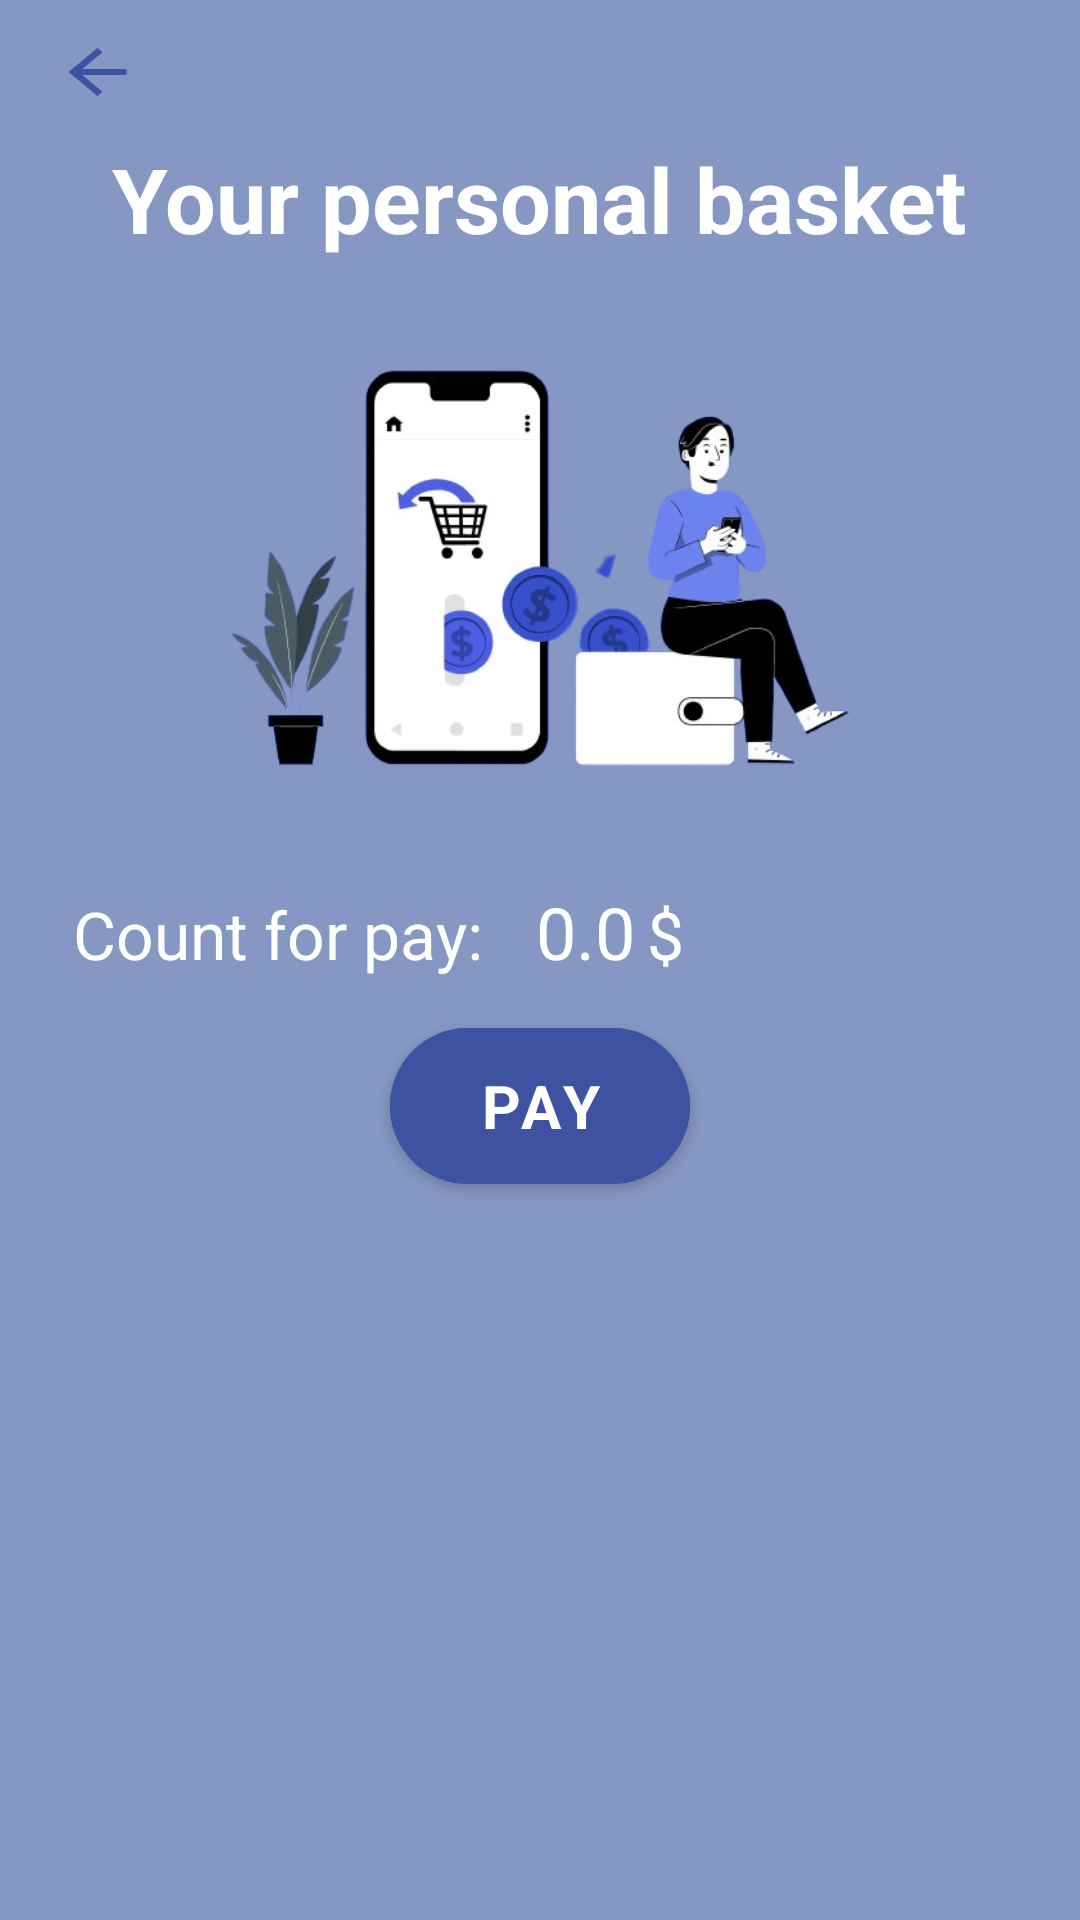

Icon bounding boxes for this 1080x1920 phone screenshot, format (x1, y1, x2, y2):
Back: (69, 48, 127, 96)
